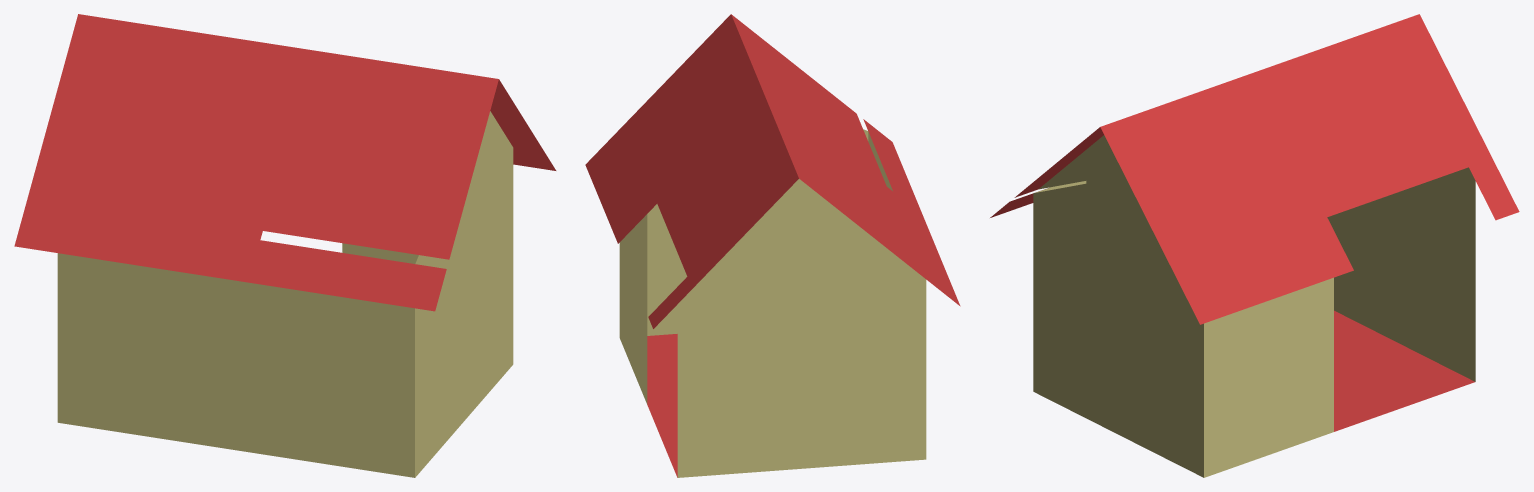
3 renders of one model, left to right at view 1: azimuth 30°, elevation 25°; view 2: azimuth 150°, elevation 25°; view 3: azimuth 270°, elevation 25°, orthographic. The views are drawn at different scales.
Size of the model in its own units: 16.59 by 16.94 by 11.25.
